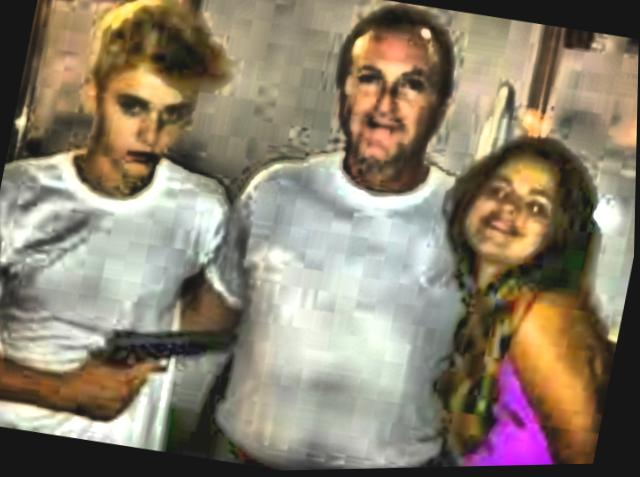pistol: (71, 298, 246, 432)
